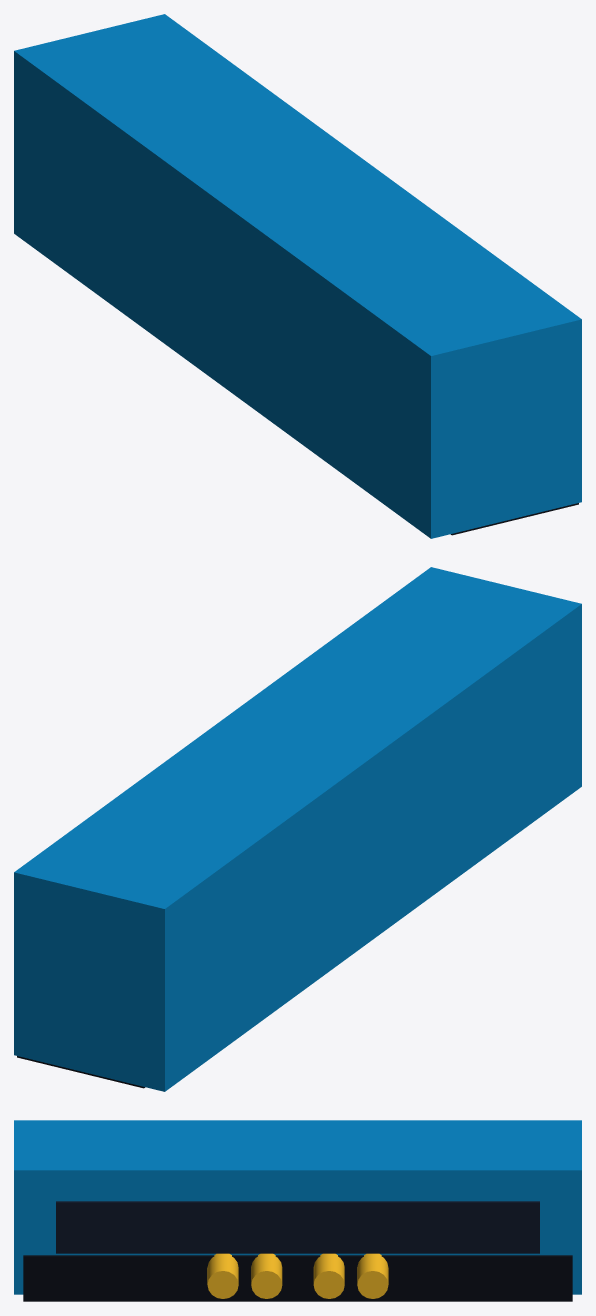
The model's file is rear_bumper.glb.
3 renders of one model, top to bottom at view 1: azimuth 30°, elevation 25°; view 2: azimuth 150°, elevation 25°; view 3: azimuth 270°, elevation 25°, orthographic. The views are drawn at different scales.
Parts seen in each view (by area): view 1: Rear_Bumper_Fascia_Assembly; view 2: Rear_Bumper_Fascia_Assembly; view 3: Rear_Bumper_Fascia_Assembly.
Part boxes in pixels (x1,y1,x2,y2): Rear_Bumper_Fascia_Assembly: [14, 14, 581, 538]; Rear_Bumper_Fascia_Assembly: [14, 567, 581, 1091]; Rear_Bumper_Fascia_Assembly: [14, 1120, 581, 1301].
Bounding box in the file's own units: 0.52 × 0.4601 × 1.82.
